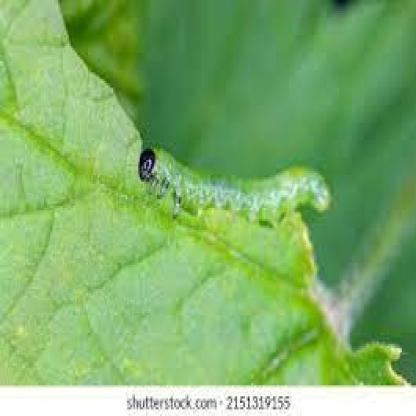sawfly: (136, 144, 334, 231)
